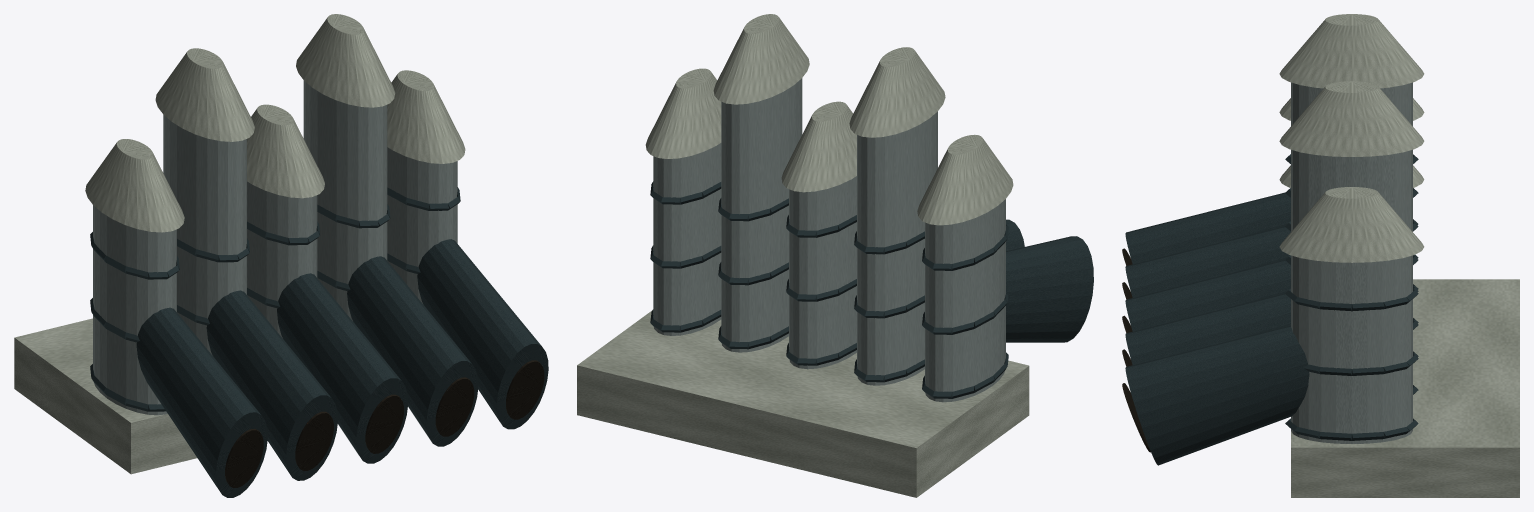
The model's file is sediment_silos_01.fbx.
The picture shows the model from 3 angles, left to right: view 1: azimuth 30°, elevation 25°; view 2: azimuth 150°, elevation 25°; view 3: azimuth 270°, elevation 25°; orthographic projection. The views are drawn at different scales.
Visible parts, largest first — view 1: sediment_silos_01_LOD0; view 2: sediment_silos_01_LOD0; view 3: sediment_silos_01_LOD0.
Part boxes in pixels (x1,y1,x2,y2): sediment_silos_01_LOD0: [14, 14, 548, 497]; sediment_silos_01_LOD0: [577, 14, 1093, 497]; sediment_silos_01_LOD0: [1122, 14, 1519, 497].
Size of what is drawn, in the model's own units: 1 by 1 by 1.
